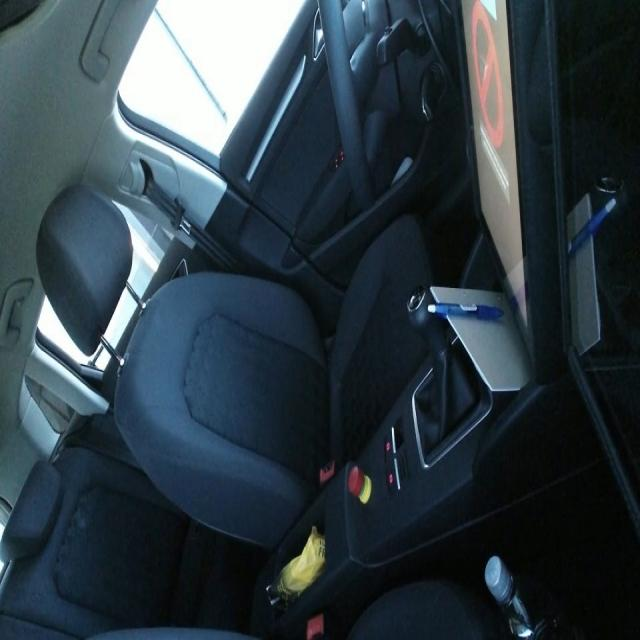pen: (566, 194, 616, 255), (427, 300, 504, 320)
